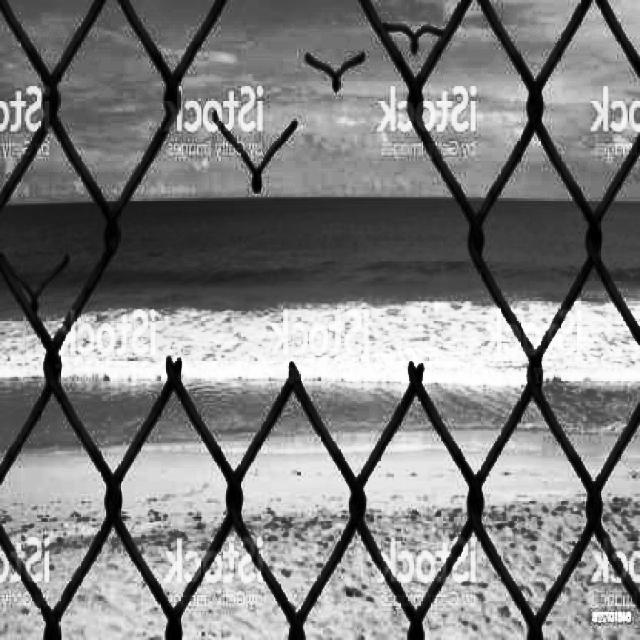anomaly-fence: (3, 0, 593, 424)
